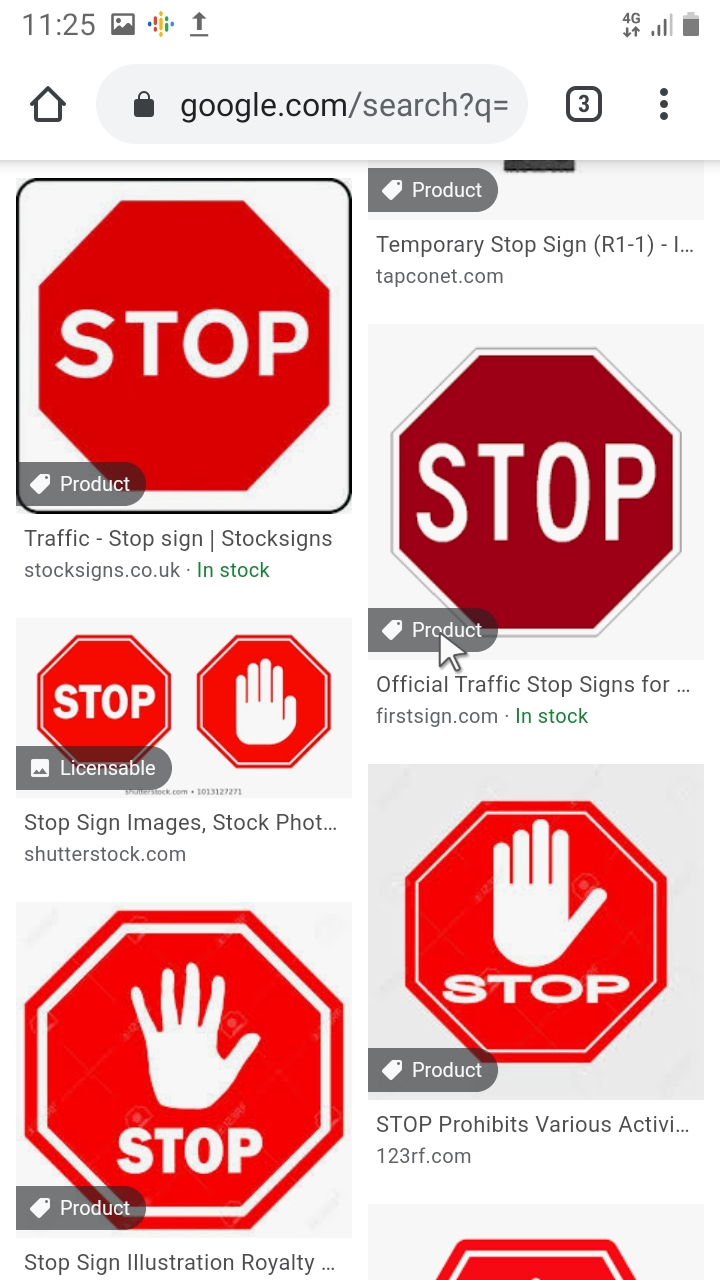stop: (382, 341, 694, 629), (31, 190, 339, 465), (394, 965, 672, 1035), (33, 623, 180, 745), (86, 1115, 282, 1192)
